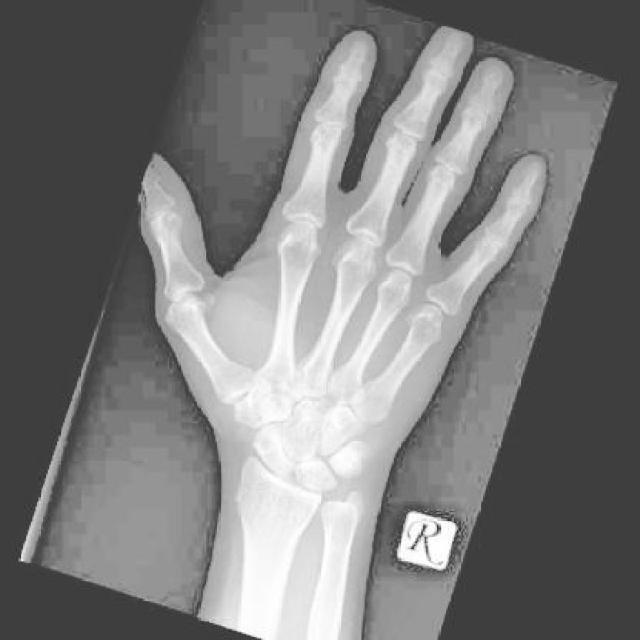Fracture: (334, 442, 370, 479)
